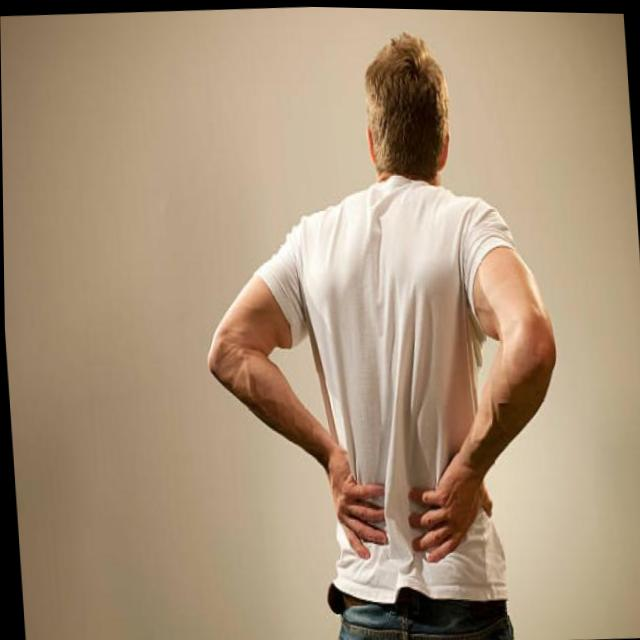no helmet: (332, 28, 476, 222)
